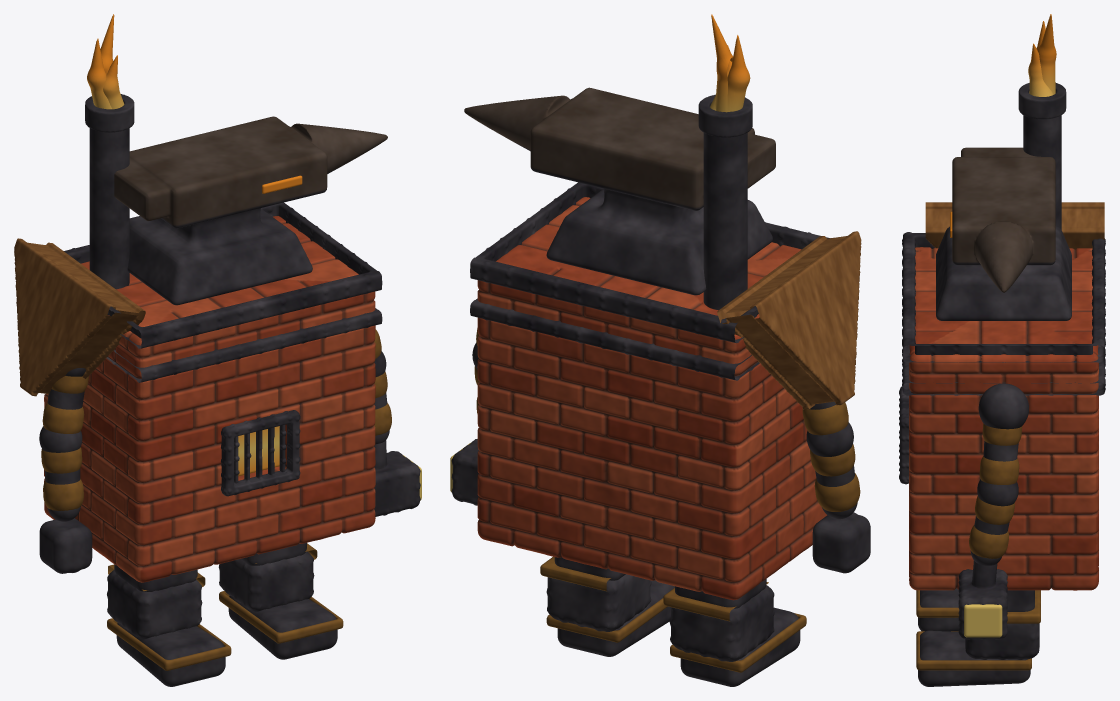
Rendered from forge-warden-sculpt.glb.
3 views of the same model, side by side, from view 1: azimuth 30°, elevation 25°; view 2: azimuth 150°, elevation 25°; view 3: azimuth 270°, elevation 25° (orthographic). The views are drawn at different scales.
Visible parts, largest first — view 1: forge-warden_sculpt; view 2: forge-warden_sculpt; view 3: forge-warden_sculpt.
Boxes of the visible parts, x1=… form: forge-warden_sculpt: x1=14, y1=14, x2=421, y2=686; forge-warden_sculpt: x1=450, y1=14, x2=870, y2=686; forge-warden_sculpt: x1=899, y1=14, x2=1105, y2=686.
Bounding box in the file's own units: 1.39 × 2.24 × 0.6975.
